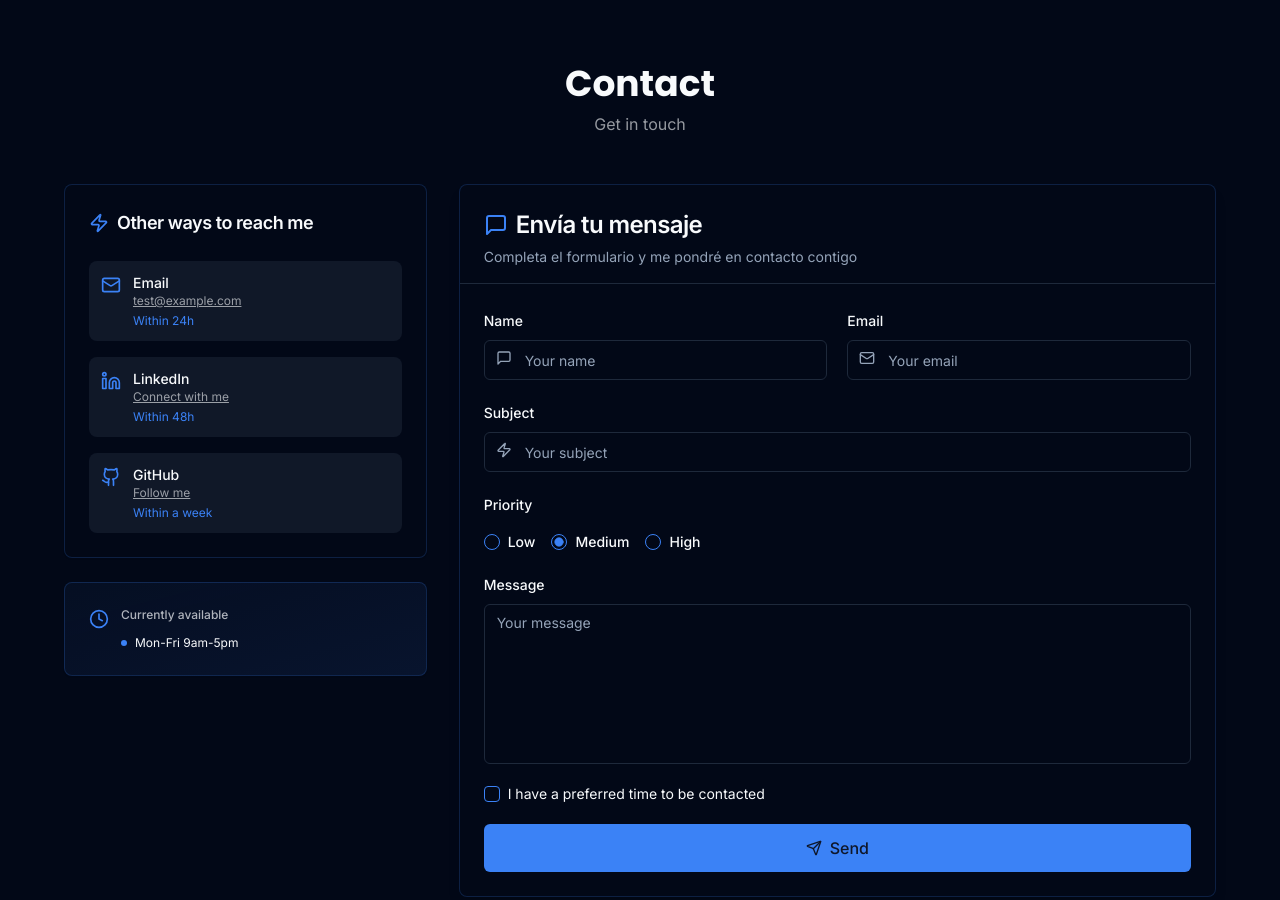
Test case: ContactForm › submits successfully with valid data and shows the confirmation dialog
The image size is (1280, 900).
Type "John Doe" into the field with placeholder "Your name" at (656, 360), box x1=484 y1=340 x2=827 y2=380
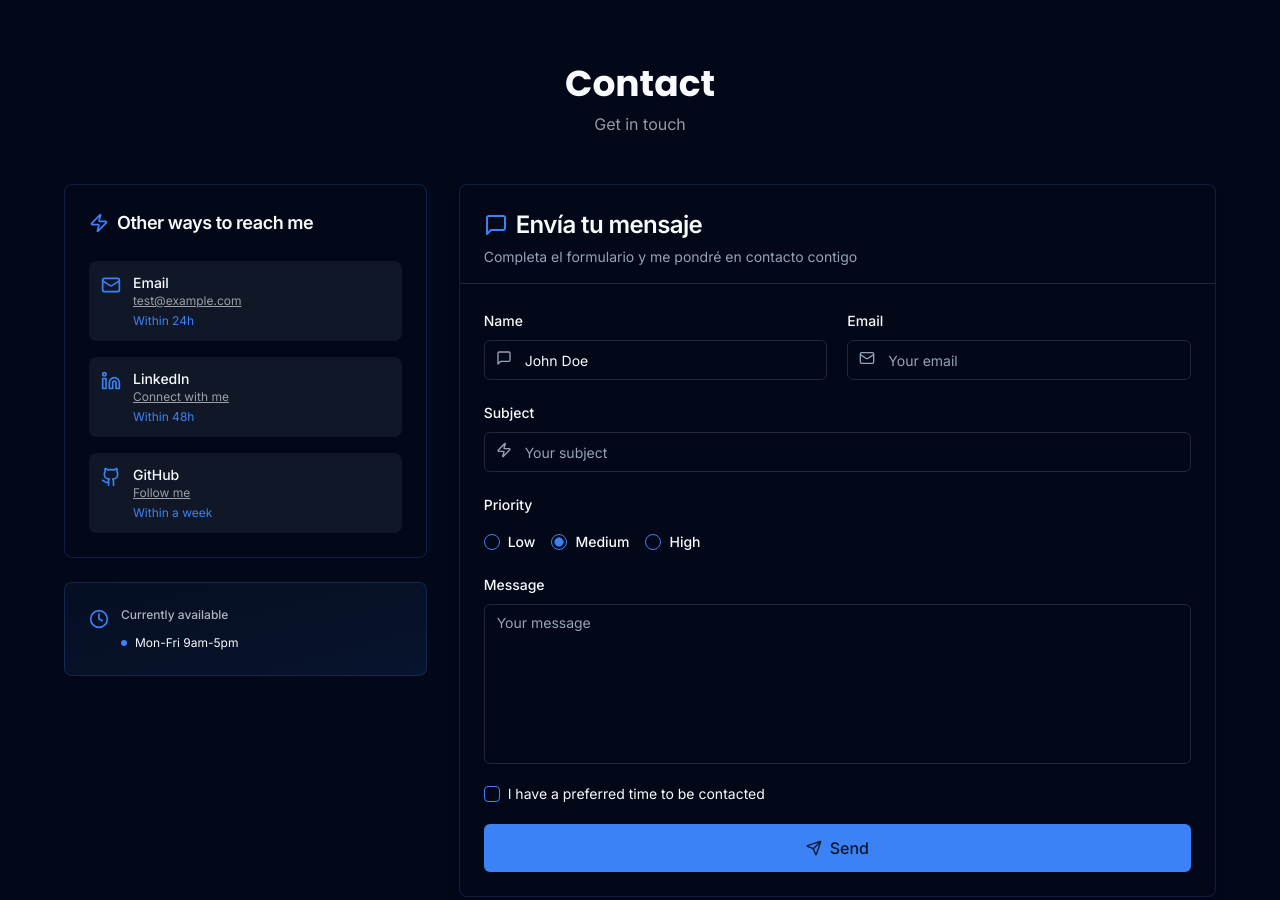
Type "john@example.com" into the field with placeholder "Your email" at (1019, 360), box x1=847 y1=340 x2=1191 y2=380
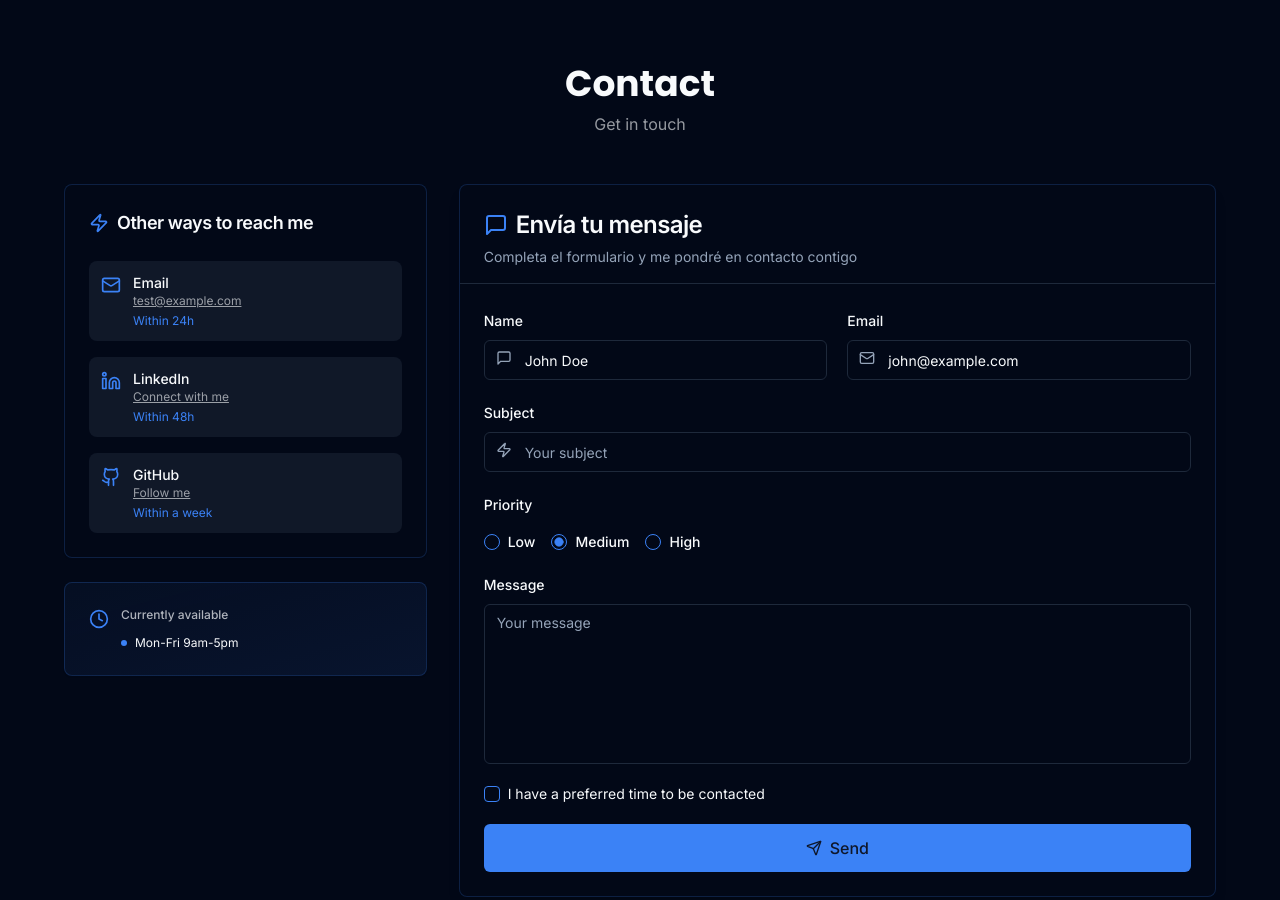
Type "This is a valid message body." into the text box with placeholder "Your message" at (837, 684), box x1=484 y1=604 x2=1191 y2=764
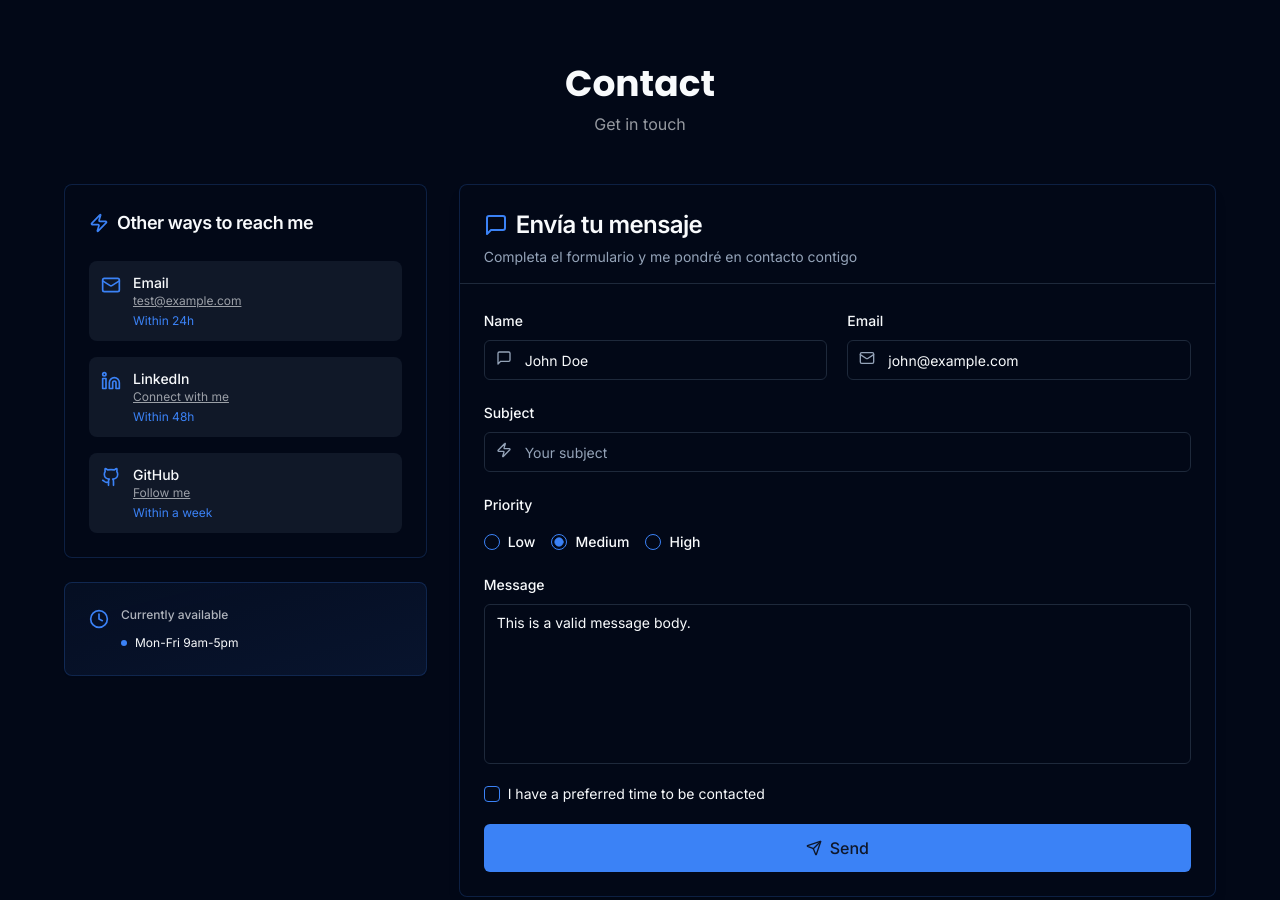
Submit the form, box x1=484 y1=308 x2=1191 y2=872
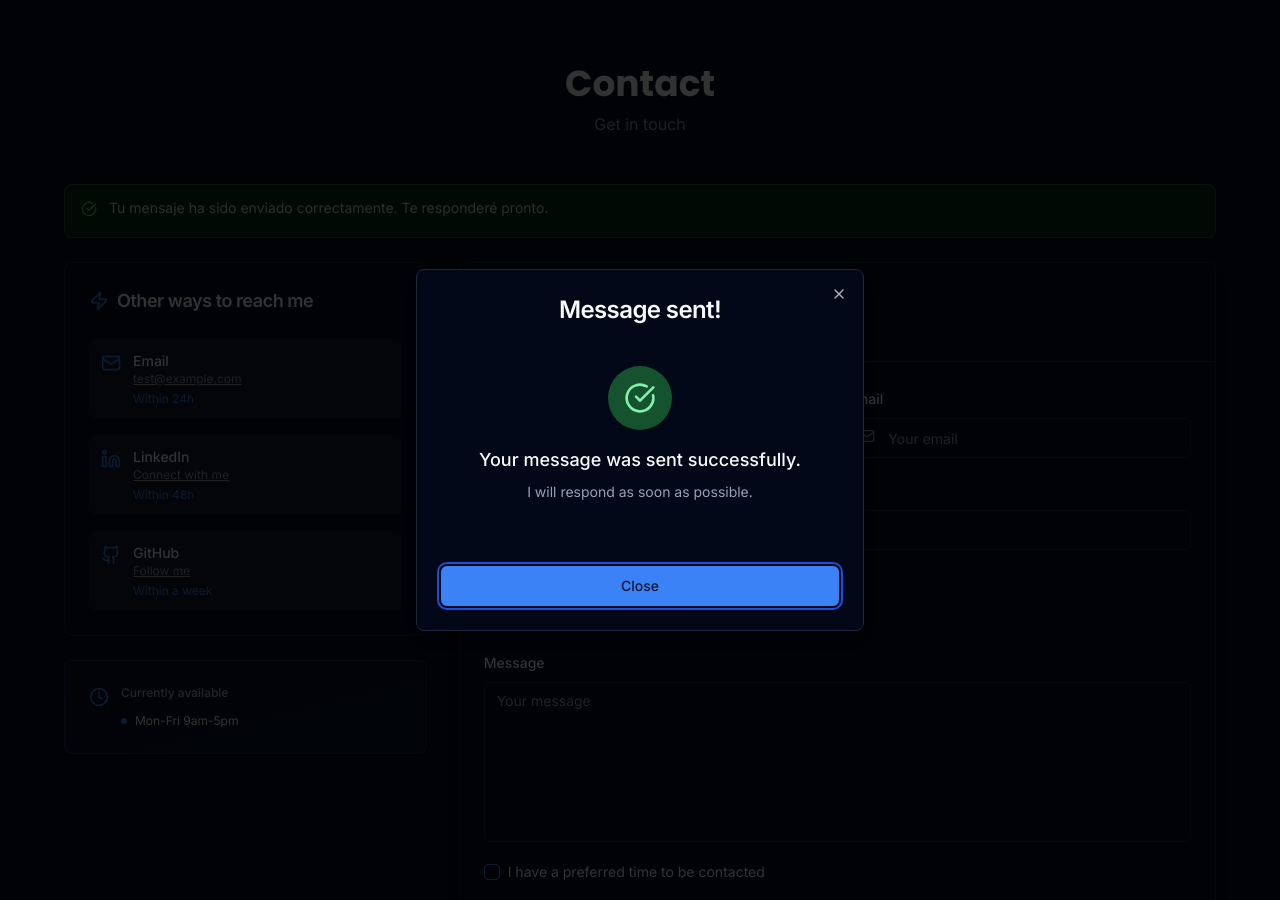
Now the heading "Message sent!" is shown, box x1=559 y1=295 x2=721 y2=324
Now the text "Your message was sent successfully." is shown, box x1=479 y1=449 x2=801 y2=470
